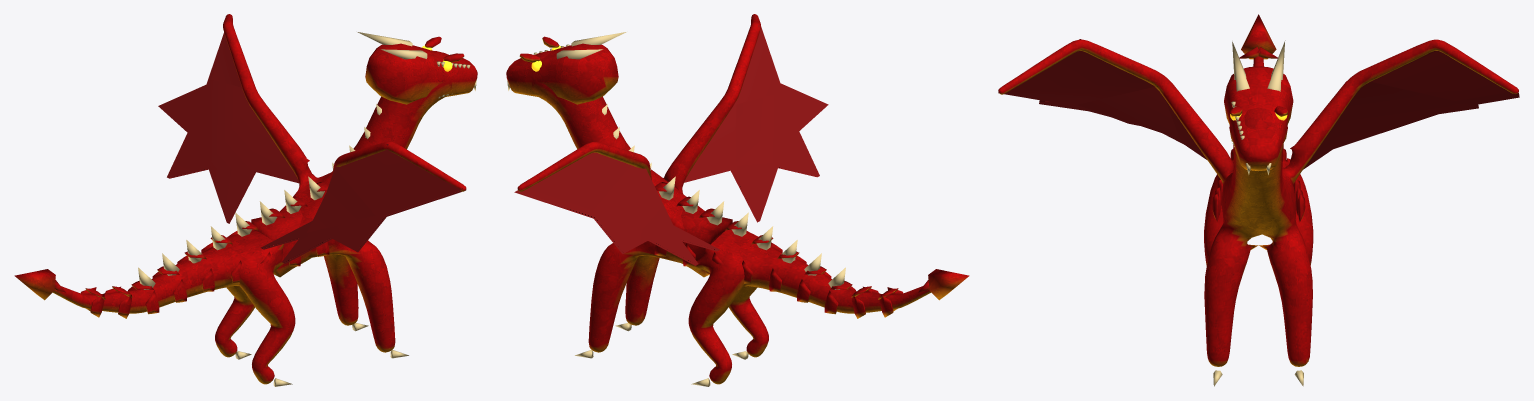
File: red-dragon.glb
The picture shows the model from 3 angles, left to right: view 1: azimuth 30°, elevation 25°; view 2: azimuth 150°, elevation 25°; view 3: azimuth 270°, elevation 25°; orthographic projection. The views are drawn at different scales.
Visible parts, largest first — view 1: red-dragon.001; view 2: red-dragon.001; view 3: red-dragon.001.
Part boxes in pixels (box(x1,y1,x2,y2)): red-dragon.001: box(14, 14, 477, 386); red-dragon.001: box(506, 14, 969, 386); red-dragon.001: box(998, 14, 1519, 386).
Size of the model in its own units: 3.58 by 2.27 by 3.2.
Materials: 4 (1 with a texture image).
